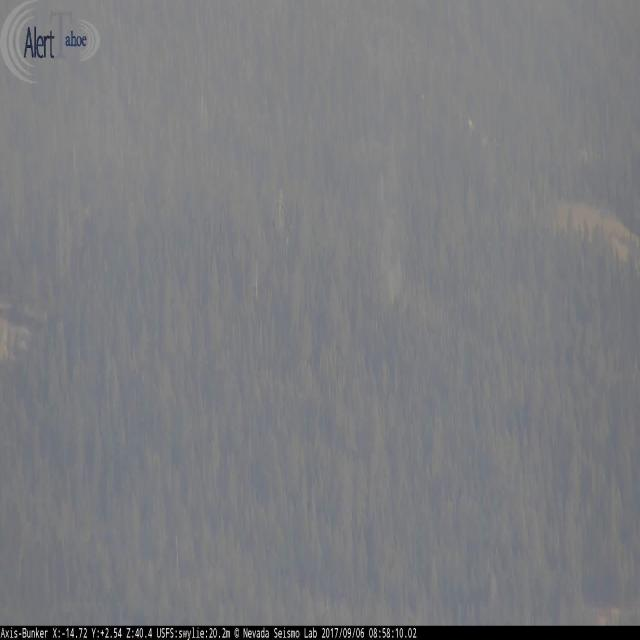smoke: (351, 26, 418, 300)
